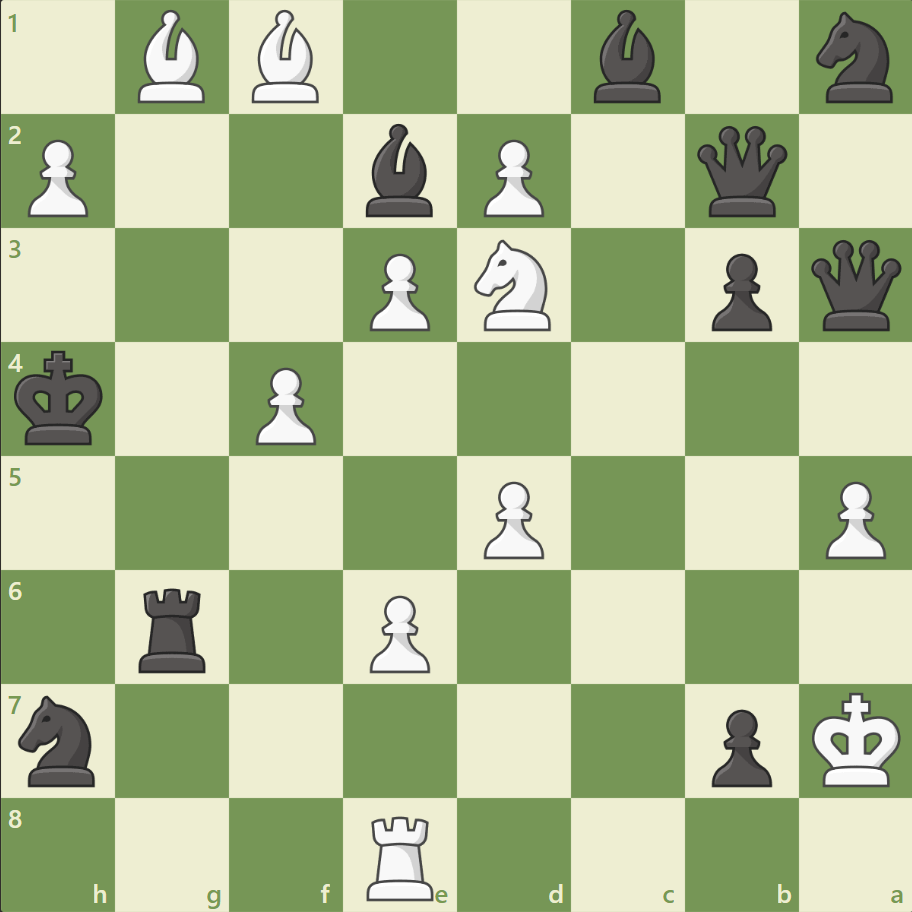B: (244, 6, 328, 109), (131, 6, 215, 109)
K: (806, 685, 906, 793)
N: (465, 234, 562, 337)
P: (474, 473, 549, 564), (247, 359, 322, 450), (474, 132, 549, 223), (20, 132, 95, 223), (361, 586, 435, 677), (815, 473, 889, 564), (361, 246, 435, 337)
R: (360, 806, 442, 904)
b: (585, 6, 669, 109), (358, 120, 442, 222)
k: (11, 344, 111, 452)
n: (11, 688, 108, 791), (806, 7, 903, 110)
p: (701, 700, 776, 791), (701, 246, 776, 337)
q: (691, 122, 790, 222), (805, 236, 904, 335)
r: (133, 579, 215, 676)
